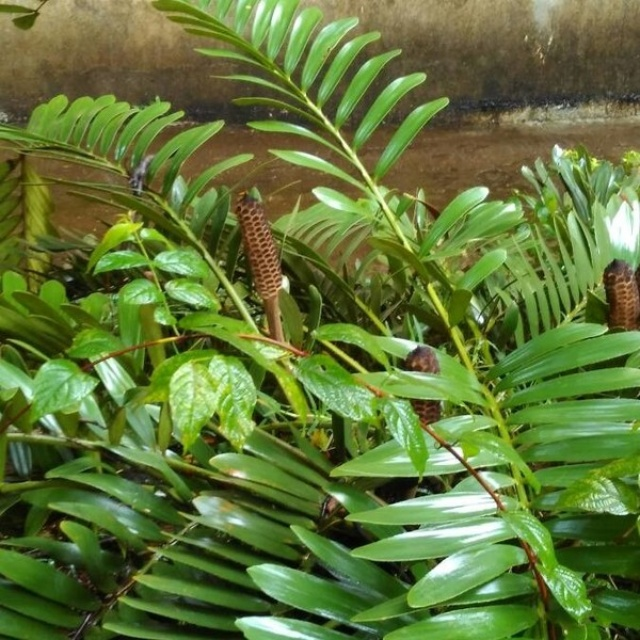obstacle: (22, 90, 593, 590)
